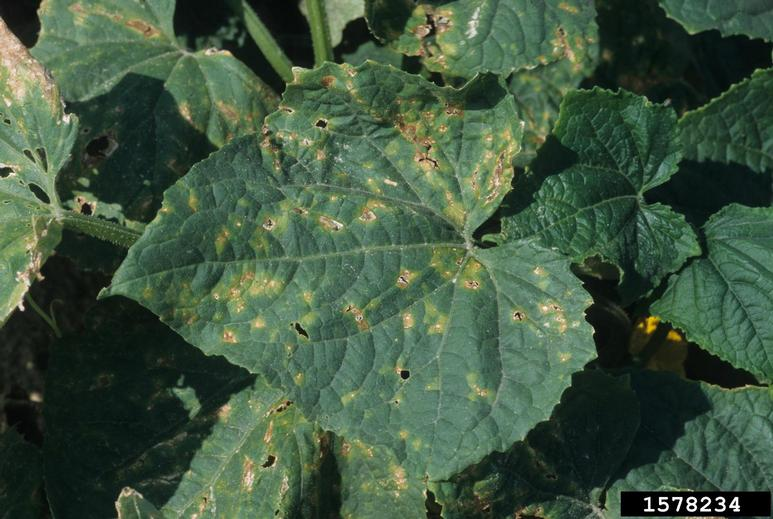Cucumber_AngularLeafSpot: (166, 56, 594, 474)
